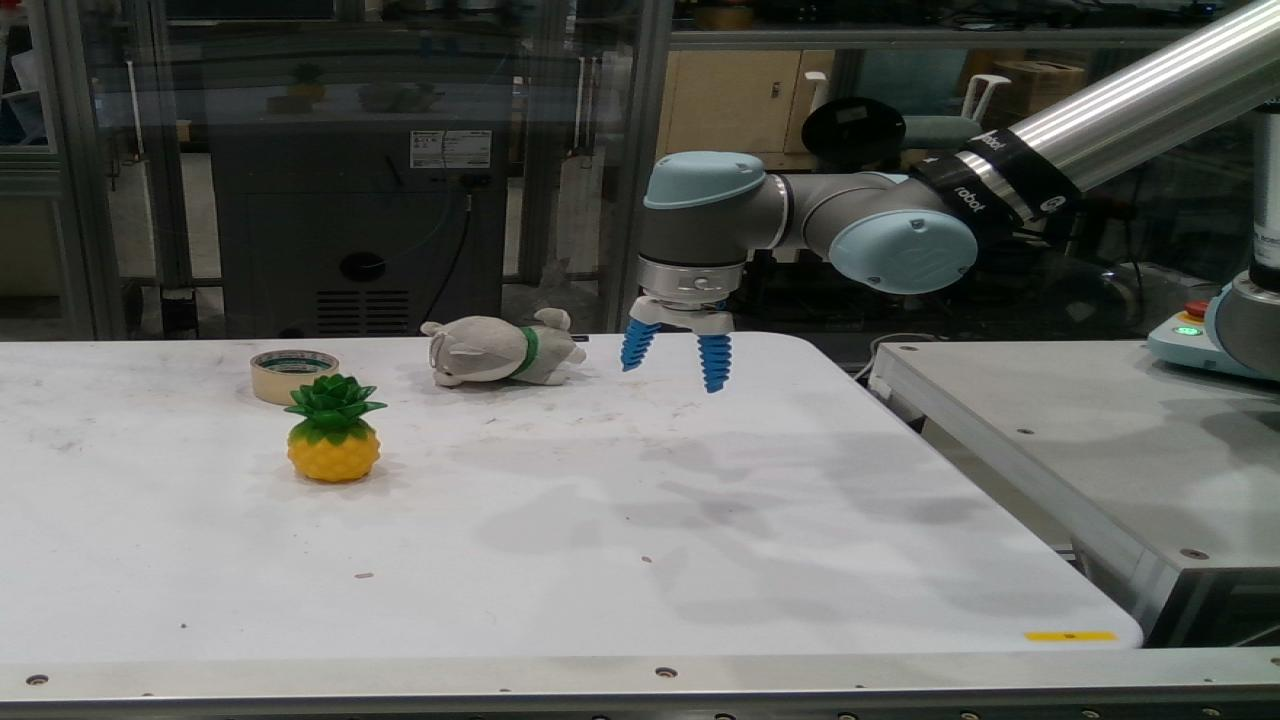UR5: (640, 0, 1276, 378)
gripper_left: (622, 320, 656, 368)
gripper_right: (700, 335, 728, 390)
target: (424, 309, 582, 386), (284, 376, 382, 480), (252, 351, 334, 404)
